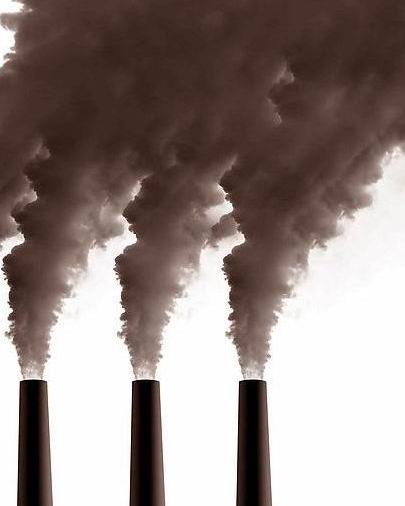dust: (97, 204, 211, 387), (214, 196, 317, 390), (5, 187, 85, 391)
